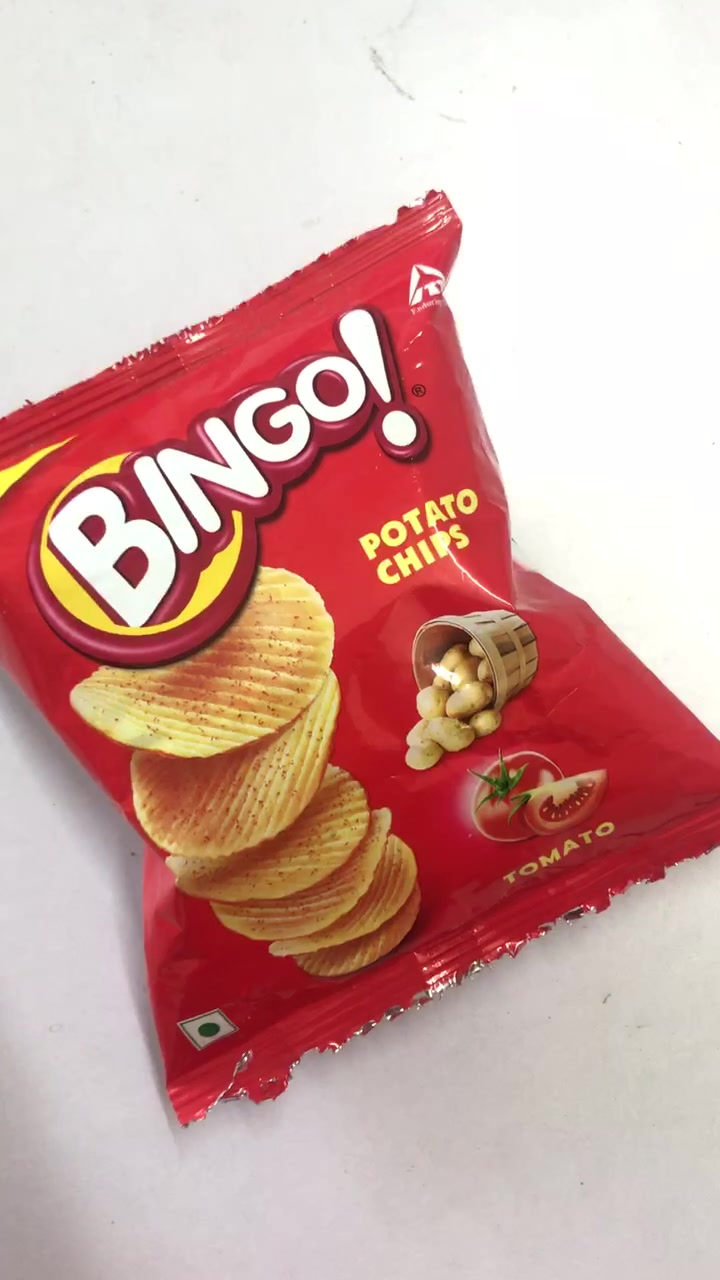Bingo: (6, 221, 720, 1043)
